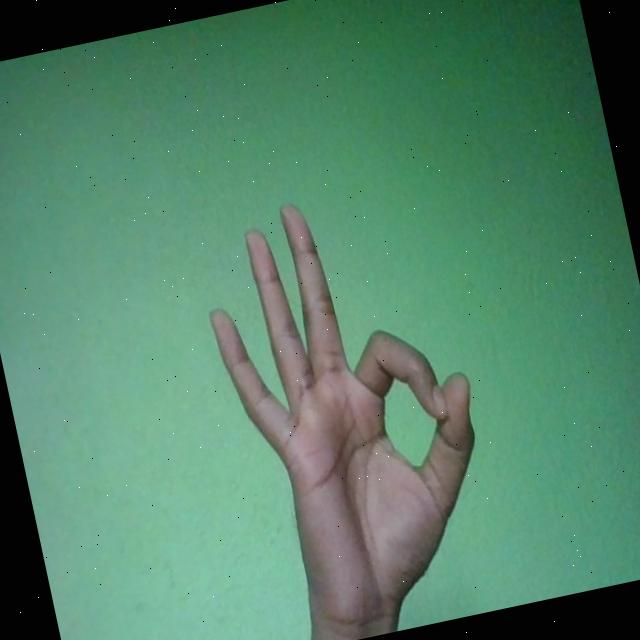Rock On: (189, 172, 513, 640)
